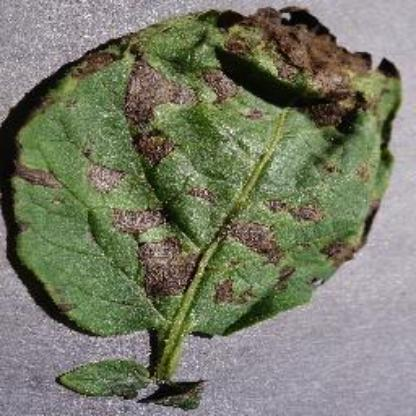Early-Blight: (4, 6, 402, 408)
